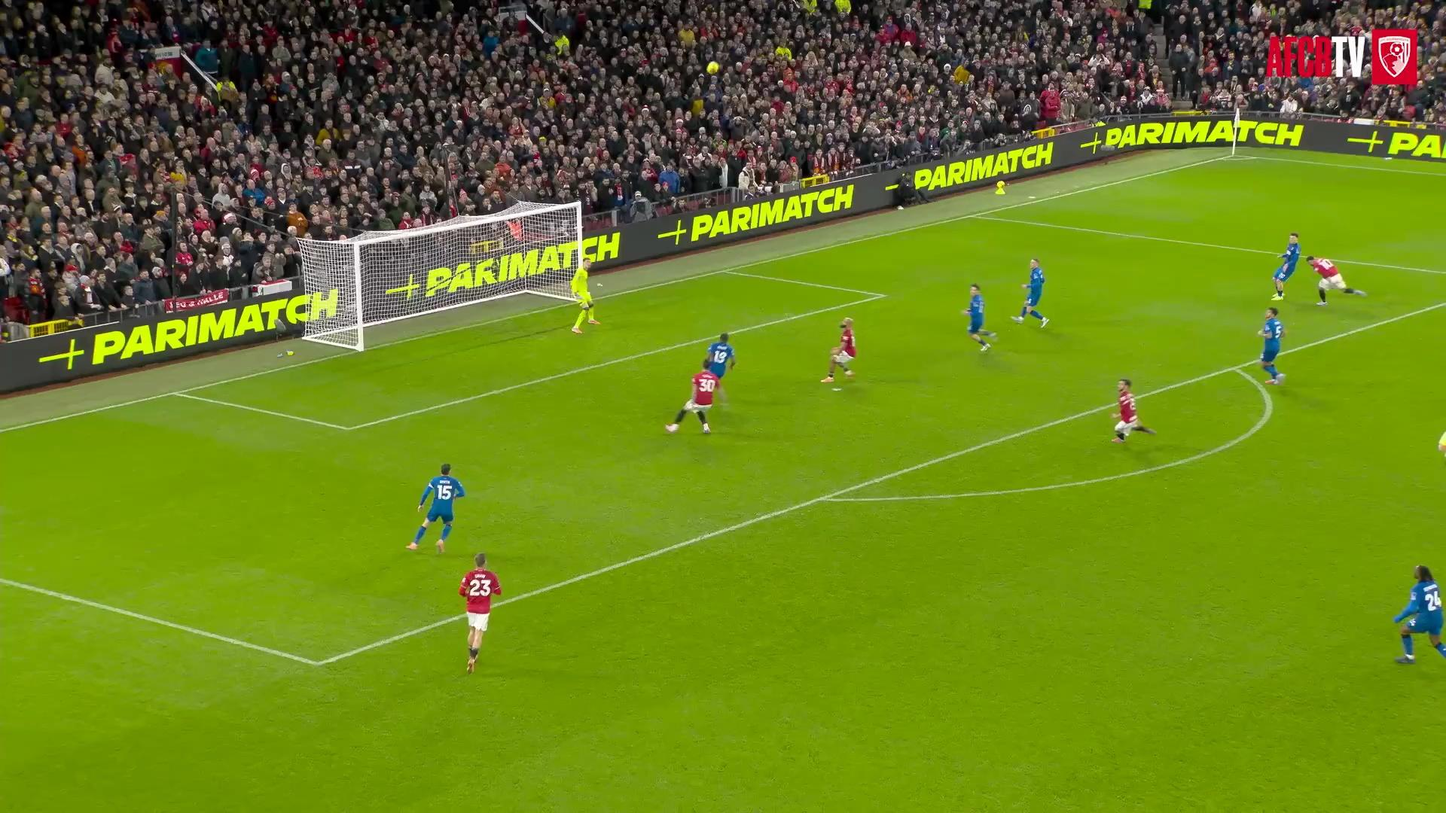player: (407, 464, 465, 552), (1393, 565, 1445, 663), (459, 553, 501, 672), (665, 360, 718, 433), (1306, 256, 1366, 305), (1112, 379, 1155, 442), (1011, 258, 1048, 327), (962, 284, 996, 351), (821, 318, 856, 382), (570, 259, 599, 333), (705, 333, 735, 401), (1258, 306, 1284, 384), (1271, 233, 1300, 300)
referee: (1438, 433, 1445, 452)
